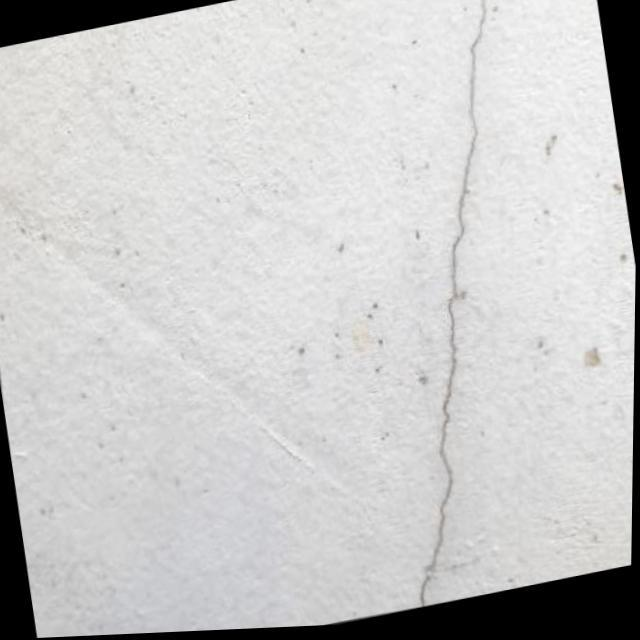Crack: (413, 3, 495, 582)
